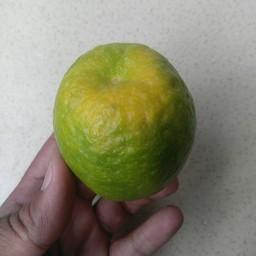Good_orange: (52, 38, 200, 204)
